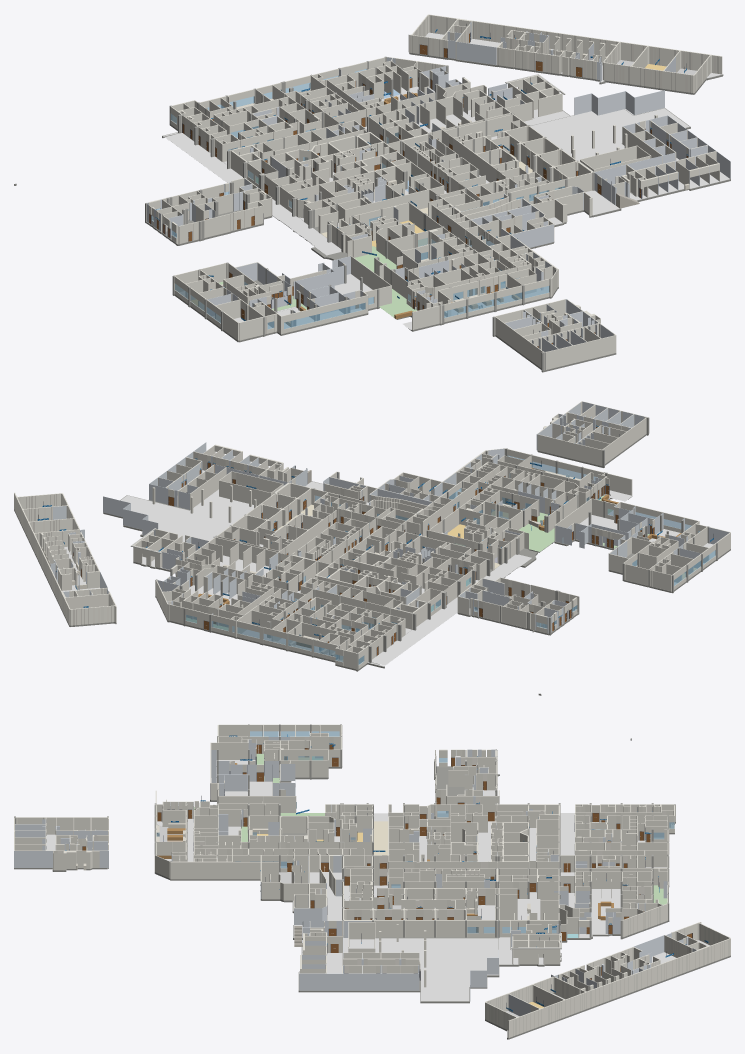
Rendered from solca_pb_este.glb.
3 renders of one model, top to bottom at view 1: azimuth 30°, elevation 25°; view 2: azimuth 150°, elevation 25°; view 3: azimuth 270°, elevation 25°, orthographic. The views are drawn at different scales.
Parts seen in each view (by area): view 1: muros|0.902,0.884,0.810|0.00, muros|0.810,0.865,0.922|0.00, pisos|0.865,0.865,0.865|0.00, muros|0.462,0.462,0.436|0.00, pisos|0.384,0.384,0.360|0.00, muros|0.303,0.608,0.846|0.60, muros|0.360,0.160,0.053|0.00, muros|0.102,0.109,0.130|0.00, pisos|0.608,0.810,0.548|0.00; view 2: muros|0.902,0.884,0.810|0.00, muros|0.810,0.865,0.922|0.00, pisos|0.865,0.865,0.865|0.00, muros|0.462,0.462,0.436|0.00, muros|0.303,0.608,0.846|0.60, pisos|0.384,0.384,0.360|0.00, muros|0.360,0.160,0.053|0.00, muros|0.102,0.109,0.130|0.00, pisos|0.608,0.810,0.548|0.00, muebles|0.865,0.828,0.740|0.00, letreros|0.002,0.130,0.423|0.00; view 3: muros|0.902,0.884,0.810|0.00, muros|0.810,0.865,0.922|0.00, pisos|0.865,0.865,0.865|0.00, pisos|0.384,0.384,0.360|0.00, muros|0.462,0.462,0.436|0.00, muros|0.360,0.160,0.053|0.00, muros|0.303,0.608,0.846|0.60, muros|0.102,0.109,0.130|0.00, pisos|0.608,0.810,0.548|0.00, muebles|0.865,0.828,0.740|0.00, pisos|0.922,0.865,0.706|0.00.
Part boxes in pixels (x1,y1,x2,y2): muros|0.902,0.884,0.810|0.00: (148,14,722,370); muros|0.810,0.865,0.922|0.00: (147,22,730,351); pisos|0.865,0.865,0.865|0.00: (163,32,729,329); muros|0.462,0.462,0.436|0.00: (145,56,594,370); pisos|0.384,0.384,0.360|0.00: (14,42,730,372); muros|0.303,0.608,0.846|0.60: (151,69,564,329); muros|0.360,0.160,0.053|0.00: (149,33,688,347); muros|0.102,0.109,0.130|0.00: (149,32,687,346); pisos|0.608,0.810,0.548|0.00: (219,178,417,317); muros|0.902,0.884,0.810|0.00: (14,401,730,669); muros|0.810,0.865,0.922|0.00: (50,401,729,633); pisos|0.865,0.865,0.865|0.00: (62,470,714,666); muros|0.462,0.462,0.436|0.00: (156,417,717,669); muros|0.303,0.608,0.846|0.60: (186,455,715,664); pisos|0.384,0.384,0.360|0.00: (14,434,730,695); muros|0.360,0.160,0.053|0.00: (73,421,654,655); muros|0.102,0.109,0.130|0.00: (55,420,654,655); pisos|0.608,0.810,0.548|0.00: (186,495,649,630); muebles|0.865,0.828,0.740|0.00: (42,471,587,661); letreros|0.002,0.130,0.423|0.00: (37,425,713,637); muros|0.902,0.884,0.810|0.00: (14,724,730,1037); muros|0.810,0.865,0.922|0.00: (14,737,696,1016); pisos|0.865,0.865,0.865|0.00: (46,745,709,1037); pisos|0.384,0.384,0.360|0.00: (14,738,730,1039); muros|0.462,0.462,0.436|0.00: (14,724,675,937); muros|0.360,0.160,0.053|0.00: (82,745,692,979); muros|0.303,0.608,0.846|0.60: (236,731,674,933); muros|0.102,0.109,0.130|0.00: (69,744,692,980); pisos|0.608,0.810,0.548|0.00: (194,754,667,904); muebles|0.865,0.828,0.740|0.00: (74,756,673,974); pisos|0.922,0.865,0.706|0.00: (357,821,388,919).
Bounding box in the file's own units: 147 × 4.2 × 148.
